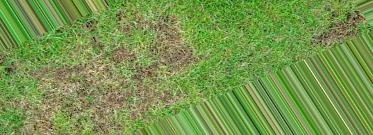patch: (73, 47, 133, 78), (24, 78, 68, 111), (92, 89, 141, 118), (151, 24, 193, 53), (317, 22, 361, 38), (154, 77, 181, 94)
